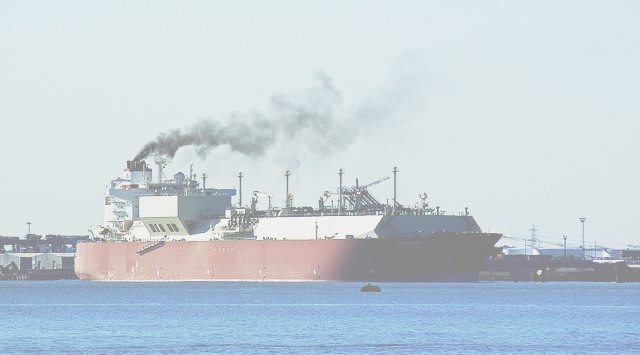LNG_ship: (72, 157, 502, 285)
